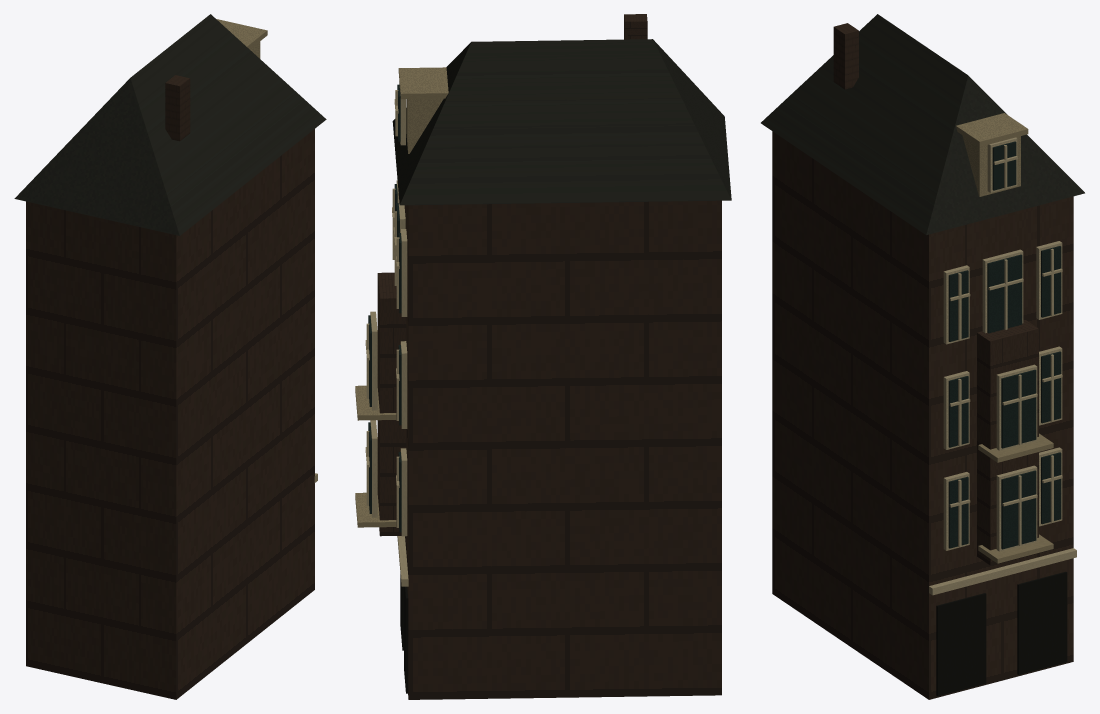
3 renders of one model, left to right at view 1: azimuth 30°, elevation 25°; view 2: azimuth 150°, elevation 25°; view 3: azimuth 270°, elevation 25°, orthographic. The views are drawn at different scales.
Visible parts, largest first — view 1: henri-zwaan-haagseveer-0, henri-zwaan-haagseveer-1, henri-zwaan-haagseveer-2; view 2: henri-zwaan-haagseveer-0, henri-zwaan-haagseveer-1, henri-zwaan-haagseveer-3, henri-zwaan-haagseveer-2, henri-zwaan-haagseveer-4, henri-zwaan-haagseveer-5; view 3: henri-zwaan-haagseveer-0, henri-zwaan-haagseveer-1, henri-zwaan-haagseveer-4, henri-zwaan-haagseveer-3, henri-zwaan-haagseveer-5, henri-zwaan-haagseveer-2.
Part boxes in pixels (left/top/right/bottom): henri-zwaan-haagseveer-0: left=26, top=75, right=314, bottom=699; henri-zwaan-haagseveer-1: left=14, top=14, right=326, bottom=235; henri-zwaan-haagseveer-2: left=216, top=19, right=267, bottom=58; henri-zwaan-haagseveer-0: left=377, top=14, right=721, bottom=699; henri-zwaan-haagseveer-1: left=392, top=39, right=731, bottom=205; henri-zwaan-haagseveer-3: left=365, top=82, right=408, bottom=586; henri-zwaan-haagseveer-2: left=355, top=67, right=448, bottom=527; henri-zwaan-haagseveer-4: left=368, top=84, right=401, bottom=532; henri-zwaan-haagseveer-5: left=400, top=574, right=408, bottom=693; henri-zwaan-haagseveer-0: left=772, top=23, right=1073, bottom=699; henri-zwaan-haagseveer-1: left=761, top=14, right=1084, bottom=235; henri-zwaan-haagseveer-4: left=948, top=141, right=1061, bottom=549; henri-zwaan-haagseveer-3: left=929, top=137, right=1076, bottom=595; henri-zwaan-haagseveer-5: left=936, top=571, right=1067, bottom=696; henri-zwaan-haagseveer-2: left=956, top=113, right=1053, bottom=563.
Size of the model in its own units: 10.49 by 18.52 by 9.35.
6 materials, 6 textured.
